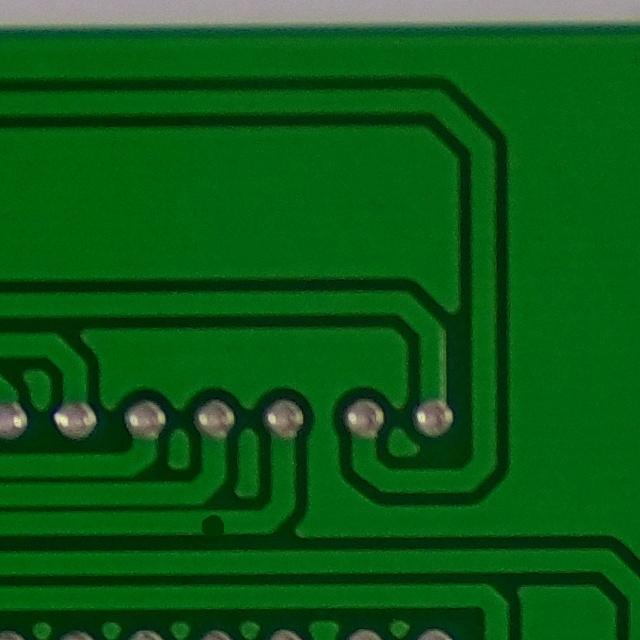mouse_bite: (181, 508, 242, 545)
